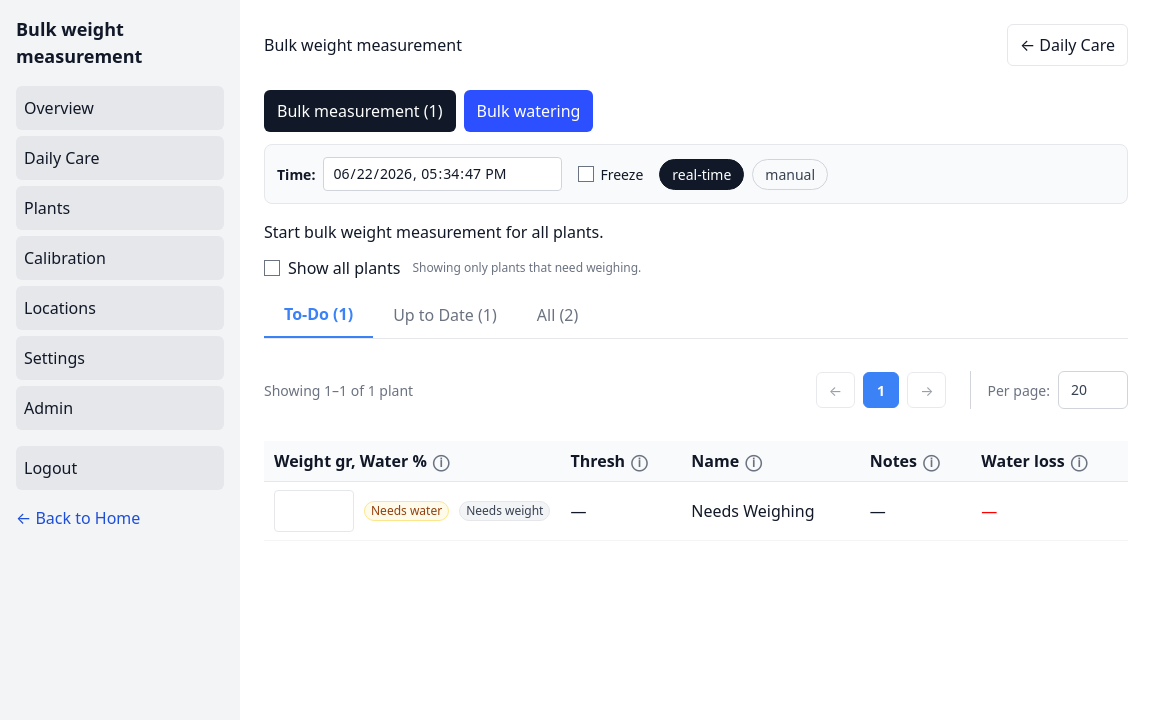
Scenario: pages/BulkWeightMeasurement › toggling "Show all plants" checkbox changes visibility
Expected: the link "Needs Weighing" is shown, [691, 500, 814, 522]
Expected: the text "Full Water" is not shown
Note: Toggle "Show all plants" checkbox
What coordinates should you click on to do the following:
click the checkbox labelled "Show all plants"
I would click on:
 (272, 268)
Its box is [264, 260, 280, 276].
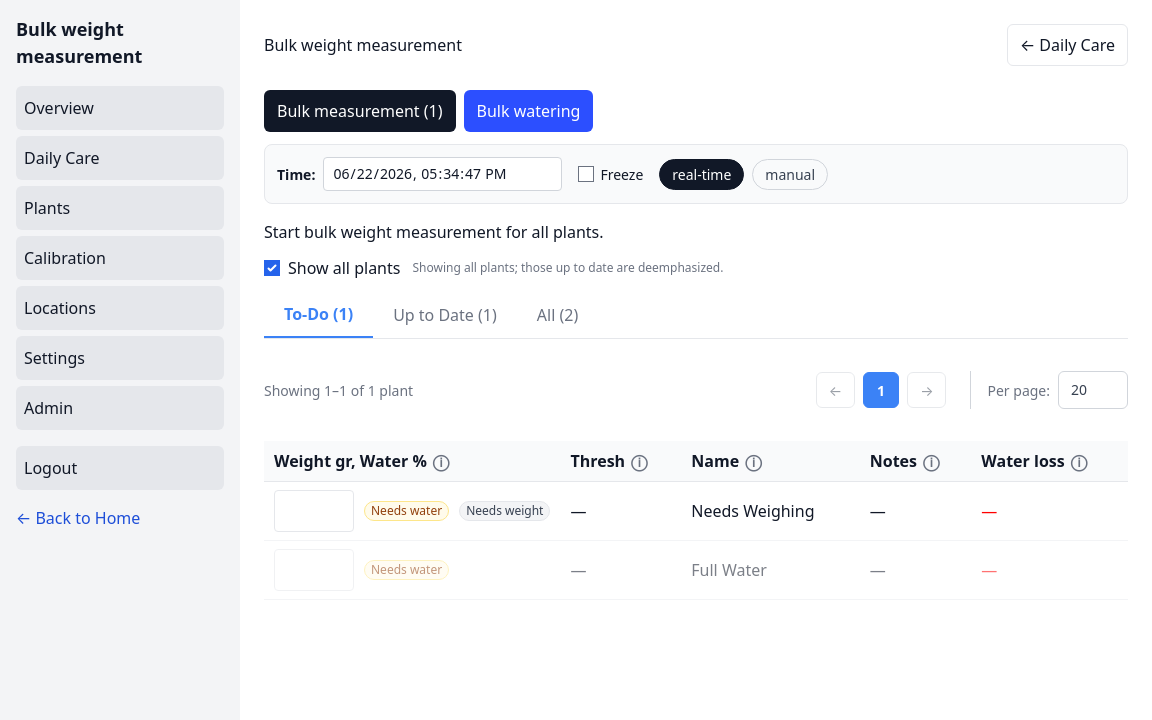
Expected: the link "Needs Weighing" is shown, [691, 500, 814, 522]
Now the link "Full Water" is shown, box [691, 559, 767, 581]
Note: Toggle back
What coordinates should you click on to do the following:
click the checkbox labelled "Show all plants"
I would click on:
 (272, 268)
Its box is [264, 260, 280, 276].
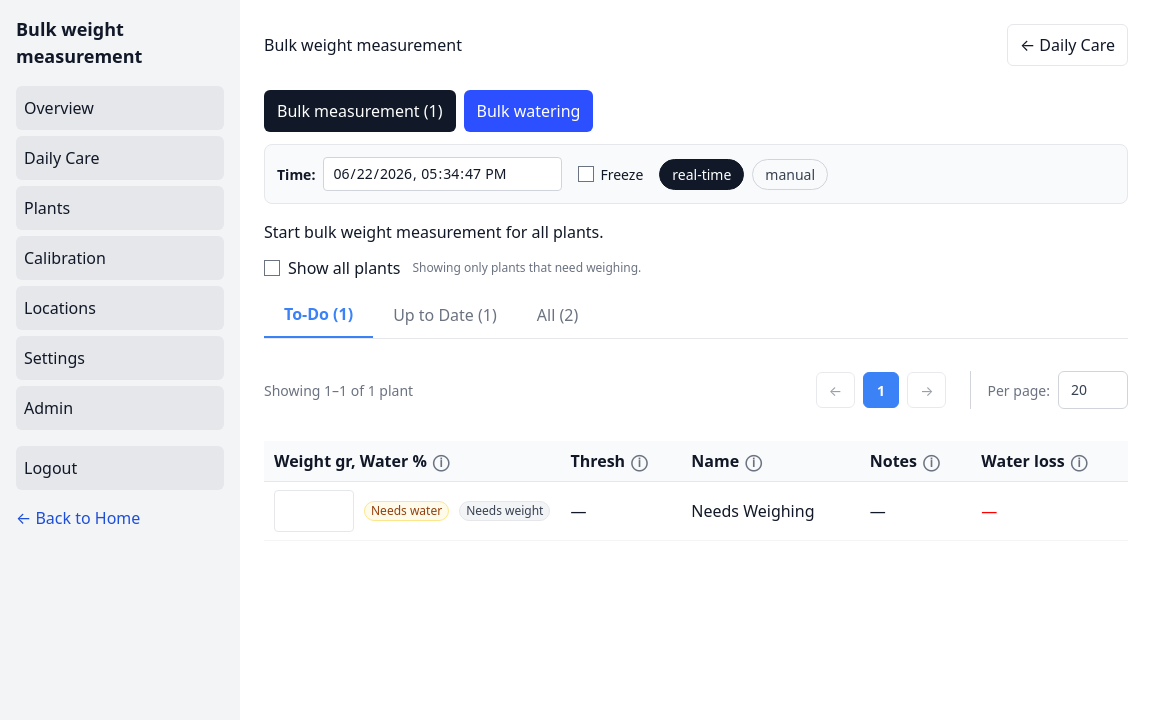
Expected: the link "Needs Weighing" is shown, [691, 500, 814, 522]
Now the link "Full Water" is gone
